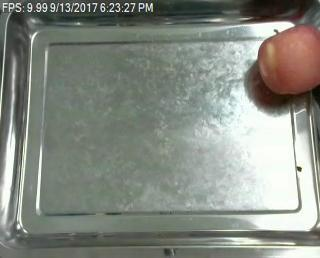apple: (257, 24, 320, 95)
